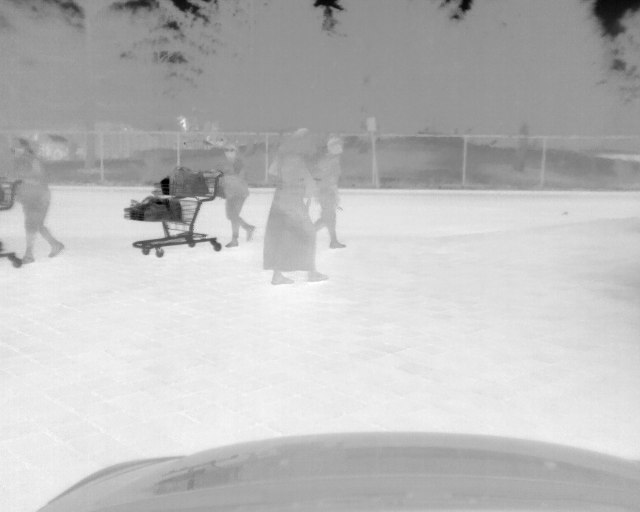people: (264, 128, 328, 285), (8, 138, 66, 267), (213, 142, 256, 248), (312, 137, 345, 250)
